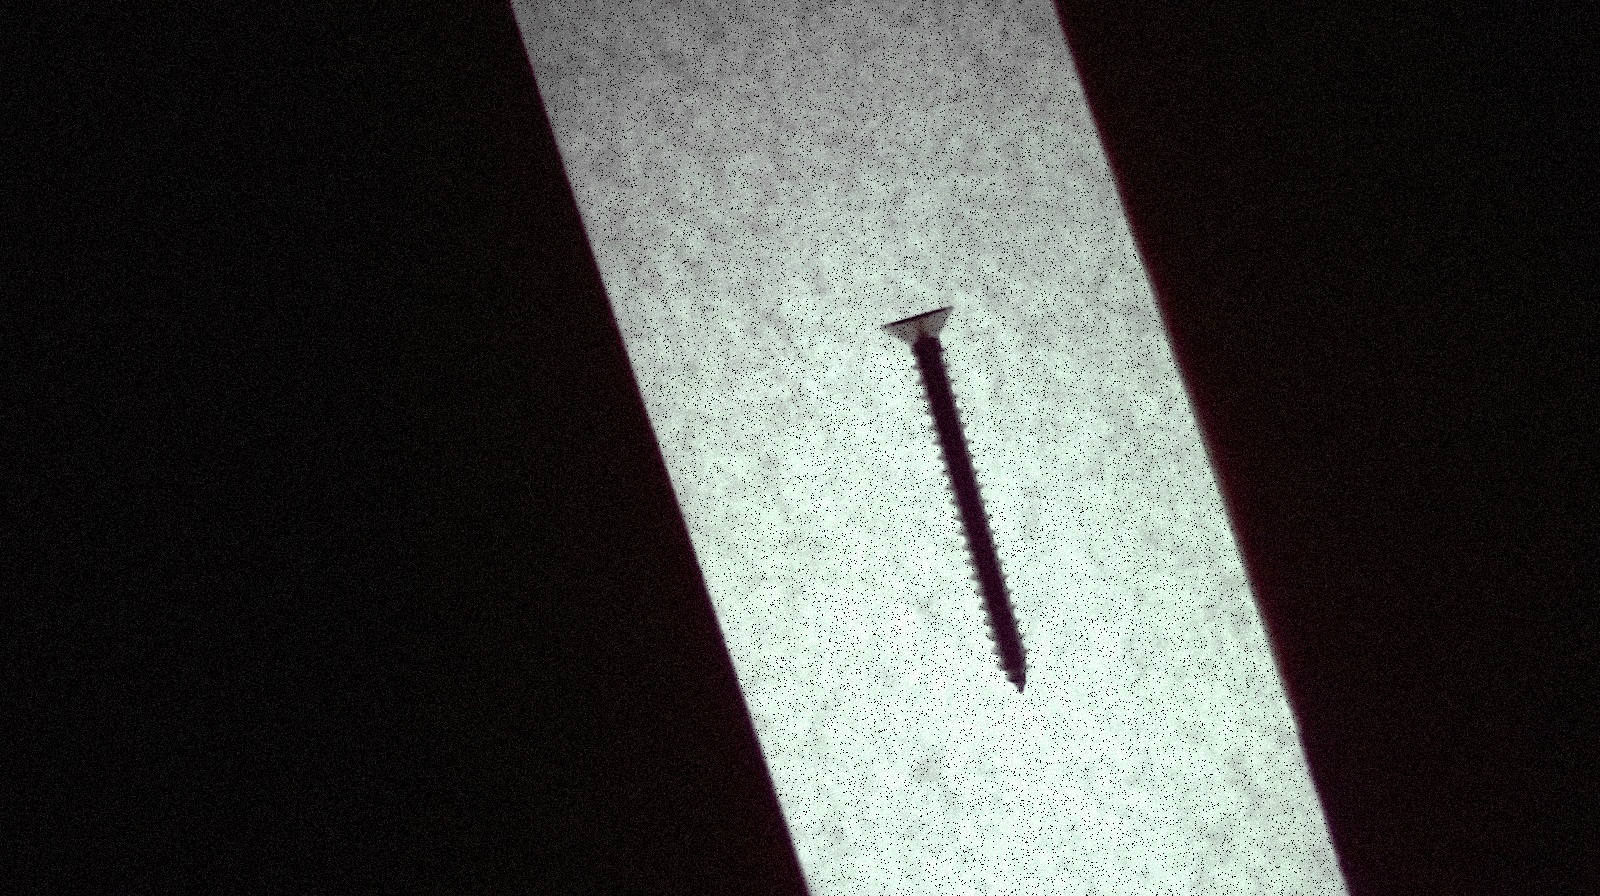S002: (848, 280, 1088, 721)
